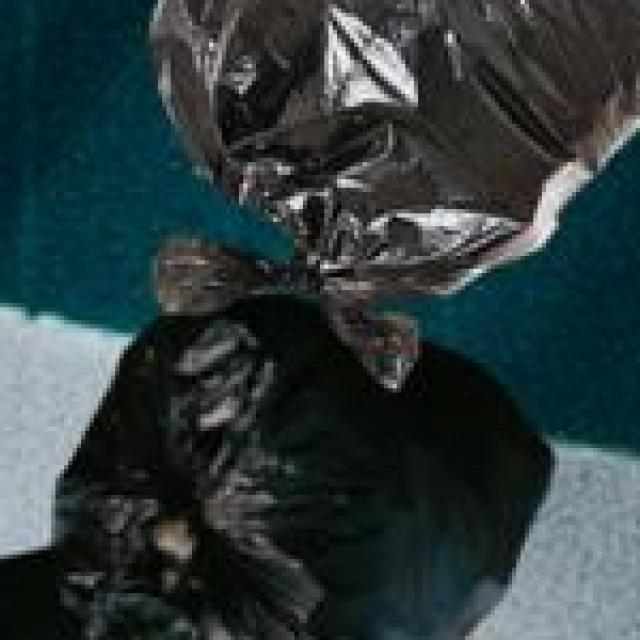Trashbag: (76, 300, 556, 640), (116, 0, 640, 288)
